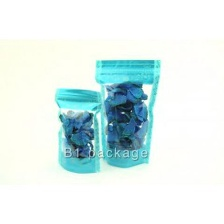snack: (89, 50, 165, 173), (48, 82, 107, 177)
